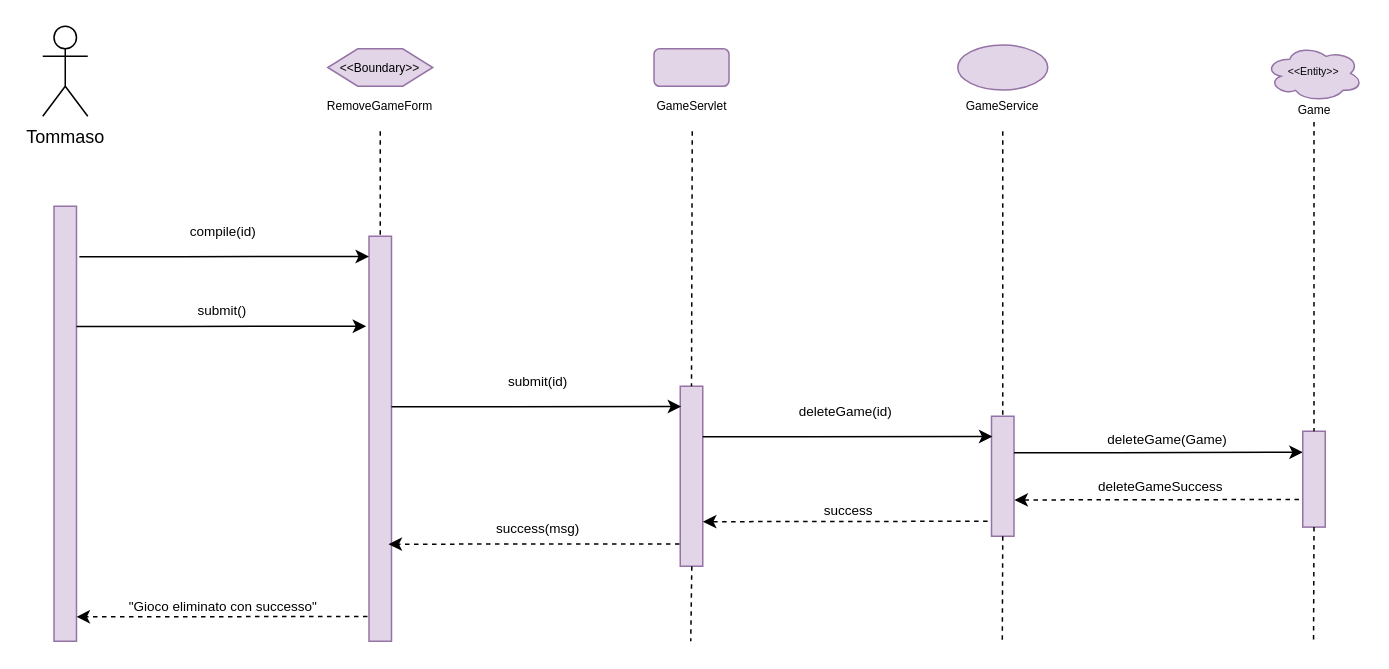
This 1389x669 diagram has some shape labels left out. Here are the shapes that lost their labels. From the top down, the centre of each, then its label:
(690,66): <<Control>>
(1002,67): <<Model>>
